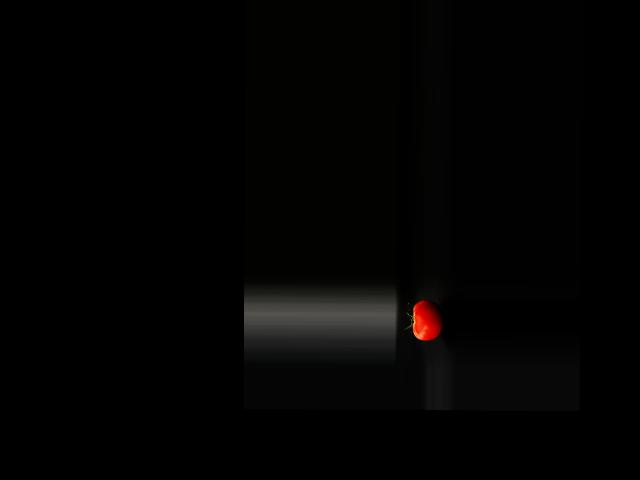tomato: (412, 300, 443, 341)
